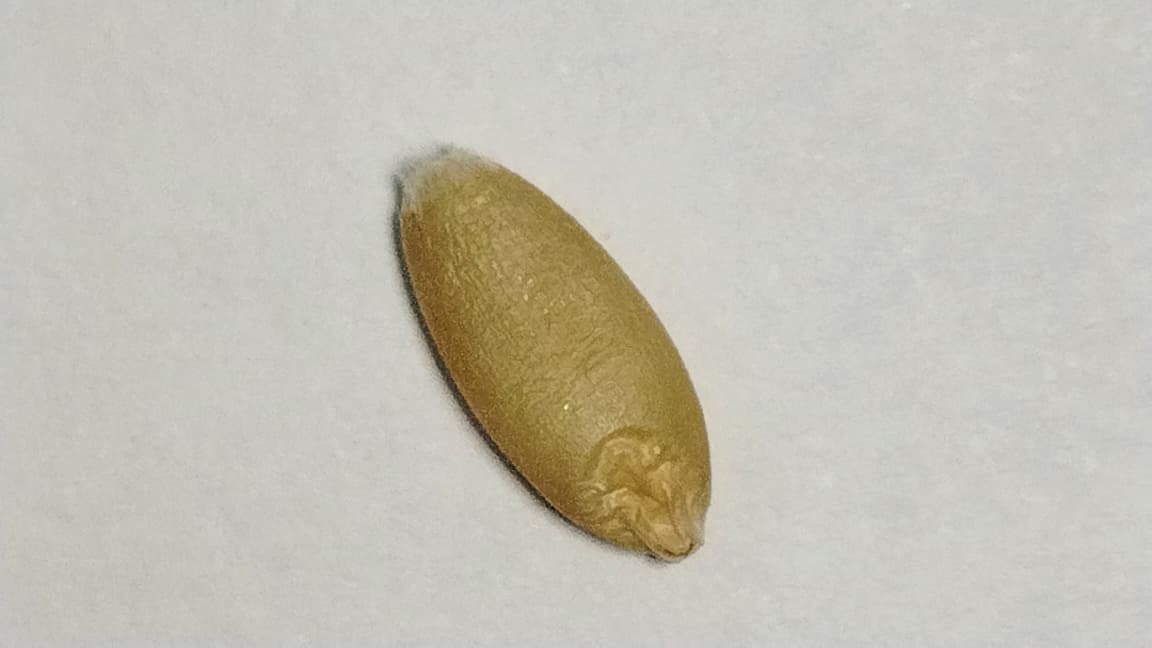healthy: (393, 144, 710, 561)
